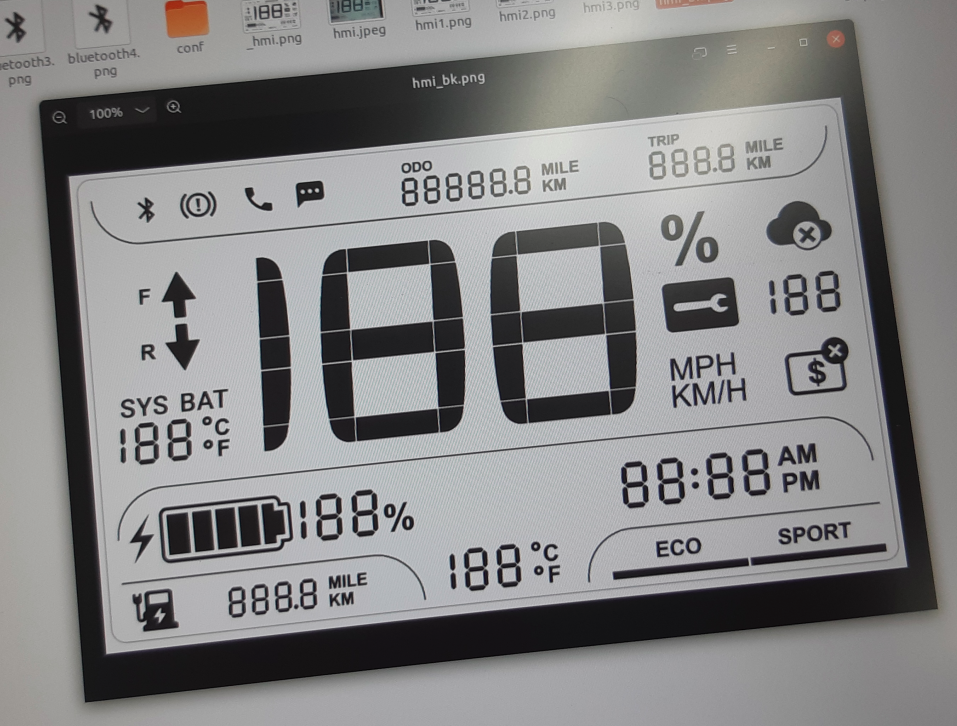bluetooth_on: (132, 193, 157, 226)
braking_on: (175, 188, 220, 221)
calling_on: (241, 183, 275, 214)
connection_lost: (763, 198, 835, 254)
error_code: (662, 276, 740, 333)
low_battery: (130, 585, 183, 635)
sms_on: (292, 177, 326, 211)
vin_id: (782, 335, 850, 399)
